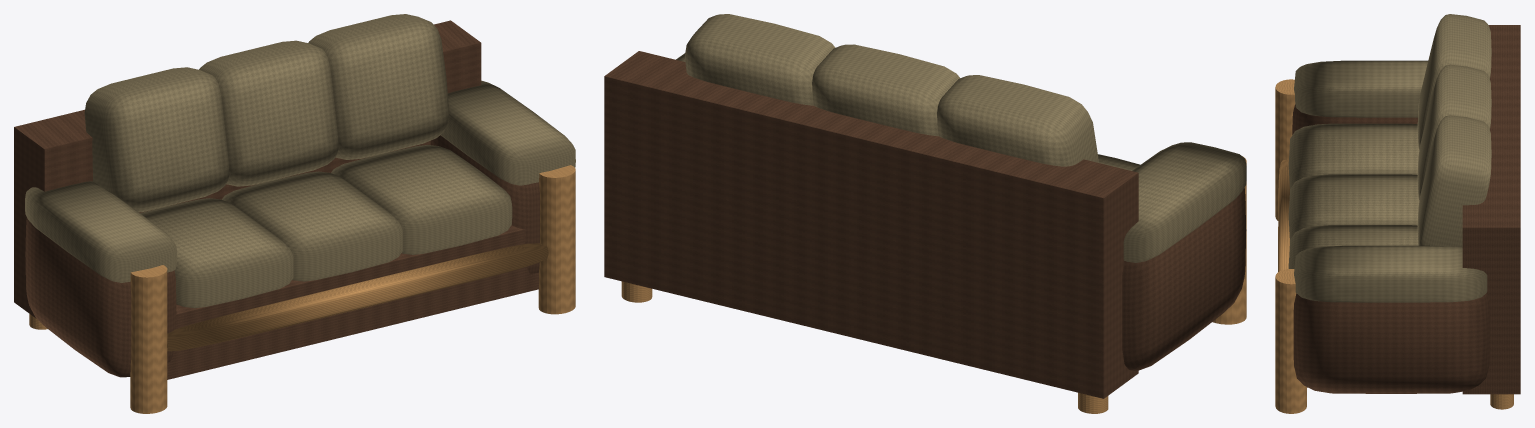
3 renders of one model, left to right at view 1: azimuth 30°, elevation 25°; view 2: azimuth 150°, elevation 25°; view 3: azimuth 270°, elevation 25°, orthographic. The views are drawn at different scales.
Parts seen in each view (by area): view 1: 10 back_cushion_left, 12 back_cushion_right, 11 back_cushion_center, 2 base_frame, 9 seat_cushion_right, 8 seat_cushion_center, 7 seat_cushion_left, 3 left_arm_base, 15 front_log_rail, 1 back_frame, 5 left_arm_pad, 6 right_arm_pad (+3 smaller); view 2: 1 back_frame, 3 left_arm_base, 10 back_cushion_left, 5 left_arm_pad, 12 back_cushion_right, 11 back_cushion_center, 13 front_left_log_post; view 3: 4 right_arm_base, 1 back_frame, 6 right_arm_pad, 12 back_cushion_right, 5 left_arm_pad, 7 seat_cushion_left, 8 seat_cushion_center, 10 back_cushion_left, 11 back_cushion_center, 14 front_right_log_post, 9 seat_cushion_right, 13 front_left_log_post (+3 smaller).
Part boxes in pixels (left/top/right/bottom): 10 back_cushion_left: left=84, top=67, right=229, bottom=212; 12 back_cushion_right: left=308, top=14, right=449, bottom=159; 11 back_cushion_center: left=199, top=40, right=338, bottom=186; 2 base_frame: left=167, top=225, right=538, bottom=379; 9 seat_cushion_right: left=331, top=145, right=512, bottom=254; 8 seat_cushion_center: left=222, top=171, right=402, bottom=281; 7 seat_cushion_left: left=140, top=198, right=293, bottom=308; 3 left_arm_base: left=25, top=217, right=176, bottom=377; 15 front_log_rail: left=167, top=243, right=548, bottom=351; 1 back_frame: left=14, top=20, right=481, bottom=317; 5 left_arm_pad: left=25, top=181, right=176, bottom=282; 6 right_arm_pad: left=440, top=80, right=575, bottom=185; 1 back_frame: left=604, top=51, right=1138, bottom=398; 3 left_arm_base: left=1122, top=188, right=1246, bottom=370; 10 back_cushion_left: left=937, top=75, right=1098, bottom=166; 5 left_arm_pad: left=1123, top=142, right=1246, bottom=262; 12 back_cushion_right: left=685, top=14, right=835, bottom=105; 11 back_cushion_center: left=812, top=44, right=959, bottom=136; 13 front_left_log_post: left=1212, top=156, right=1246, bottom=324; 4 right_arm_base: left=1293, top=293, right=1489, bottom=393; 1 back_frame: left=1462, top=25, right=1520, bottom=394; 6 right_arm_pad: left=1294, top=245, right=1487, bottom=302; 12 back_cushion_right: left=1417, top=115, right=1491, bottom=246; 5 left_arm_pad: left=1294, top=60, right=1427, bottom=117; 7 seat_cushion_left: left=1288, top=123, right=1419, bottom=188; 8 seat_cushion_center: left=1288, top=174, right=1419, bottom=239; 10 back_cushion_left: left=1417, top=14, right=1491, bottom=149; 11 back_cushion_center: left=1417, top=64, right=1491, bottom=199; 14 front_right_log_post: left=1275, top=269, right=1306, bottom=413; 9 seat_cushion_right: left=1288, top=225, right=1418, bottom=268; 13 front_left_log_post: left=1275, top=79, right=1295, bottom=220.
Size of the model in its own units: 2.03 by 0.9906 by 0.9652.
Materials: 3 (3 with a texture image).
